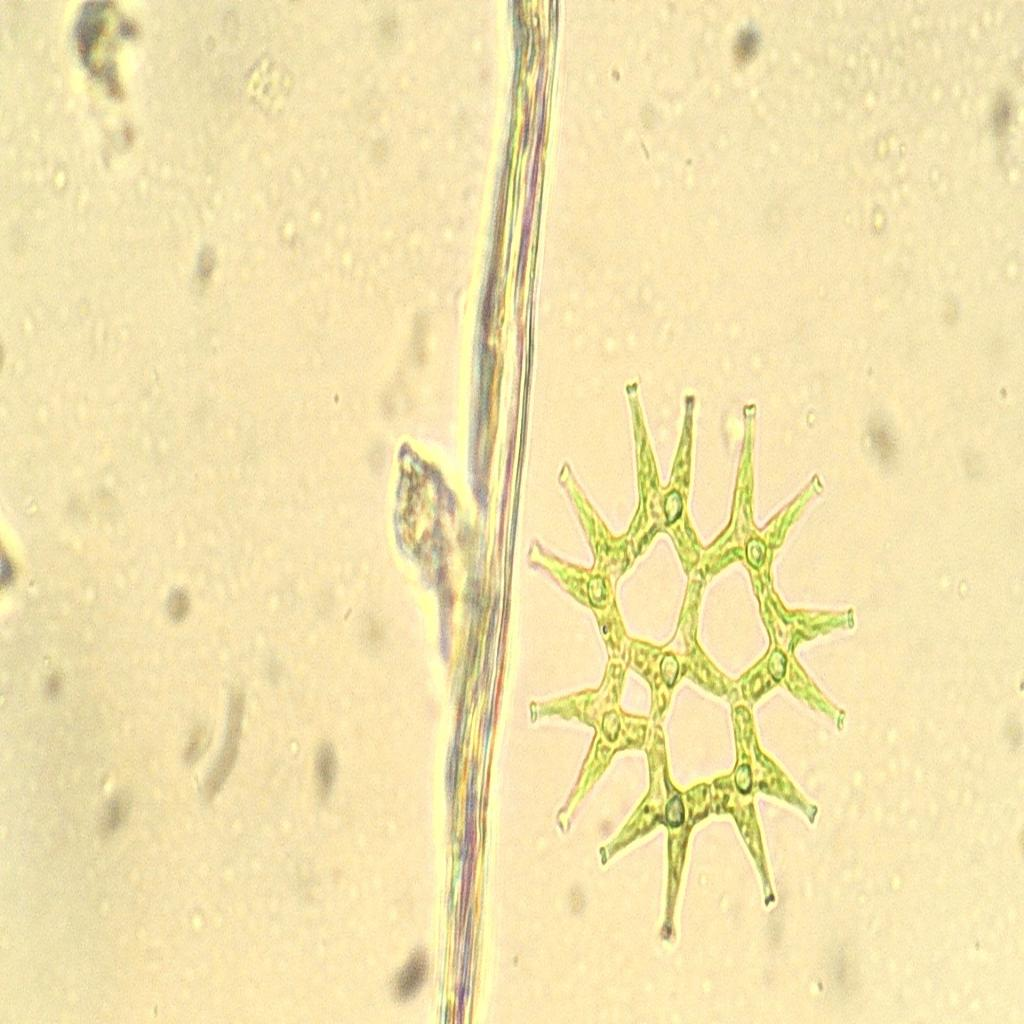Pediastrum_75T: (524, 371, 865, 956)
